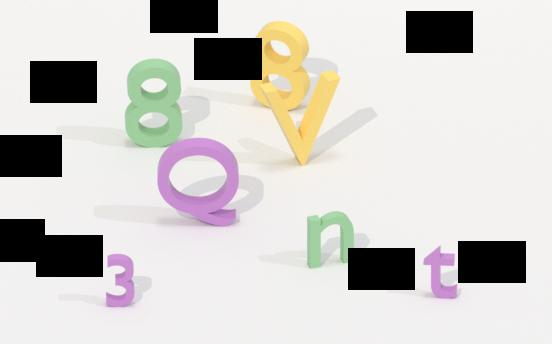3: (104, 250, 137, 310)
8: (249, 19, 311, 115), (124, 59, 186, 149)
n: (303, 208, 357, 272)
q: (152, 134, 244, 230)
t: (421, 244, 461, 303)
v: (257, 71, 343, 175)
